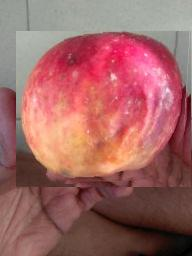Apple Semirotten: (17, 31, 192, 187)
